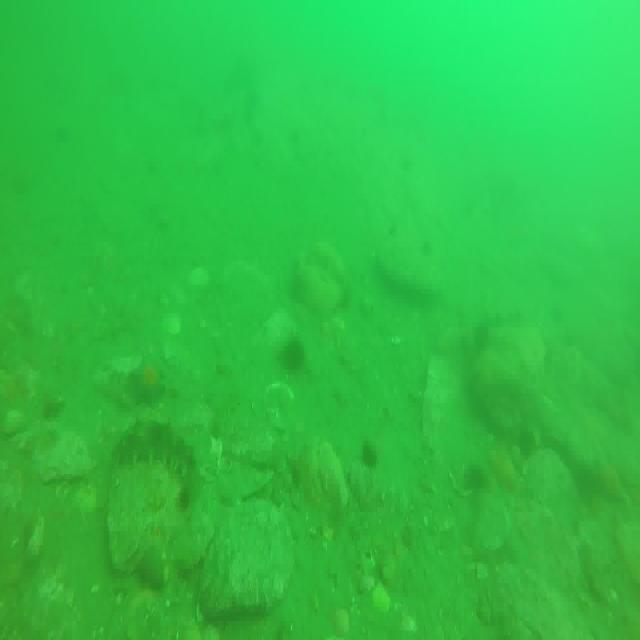echinus: (284, 332, 306, 368), (467, 462, 490, 494), (361, 438, 379, 467)
holothurian: (112, 422, 194, 472)
starfish: (130, 358, 166, 408)
